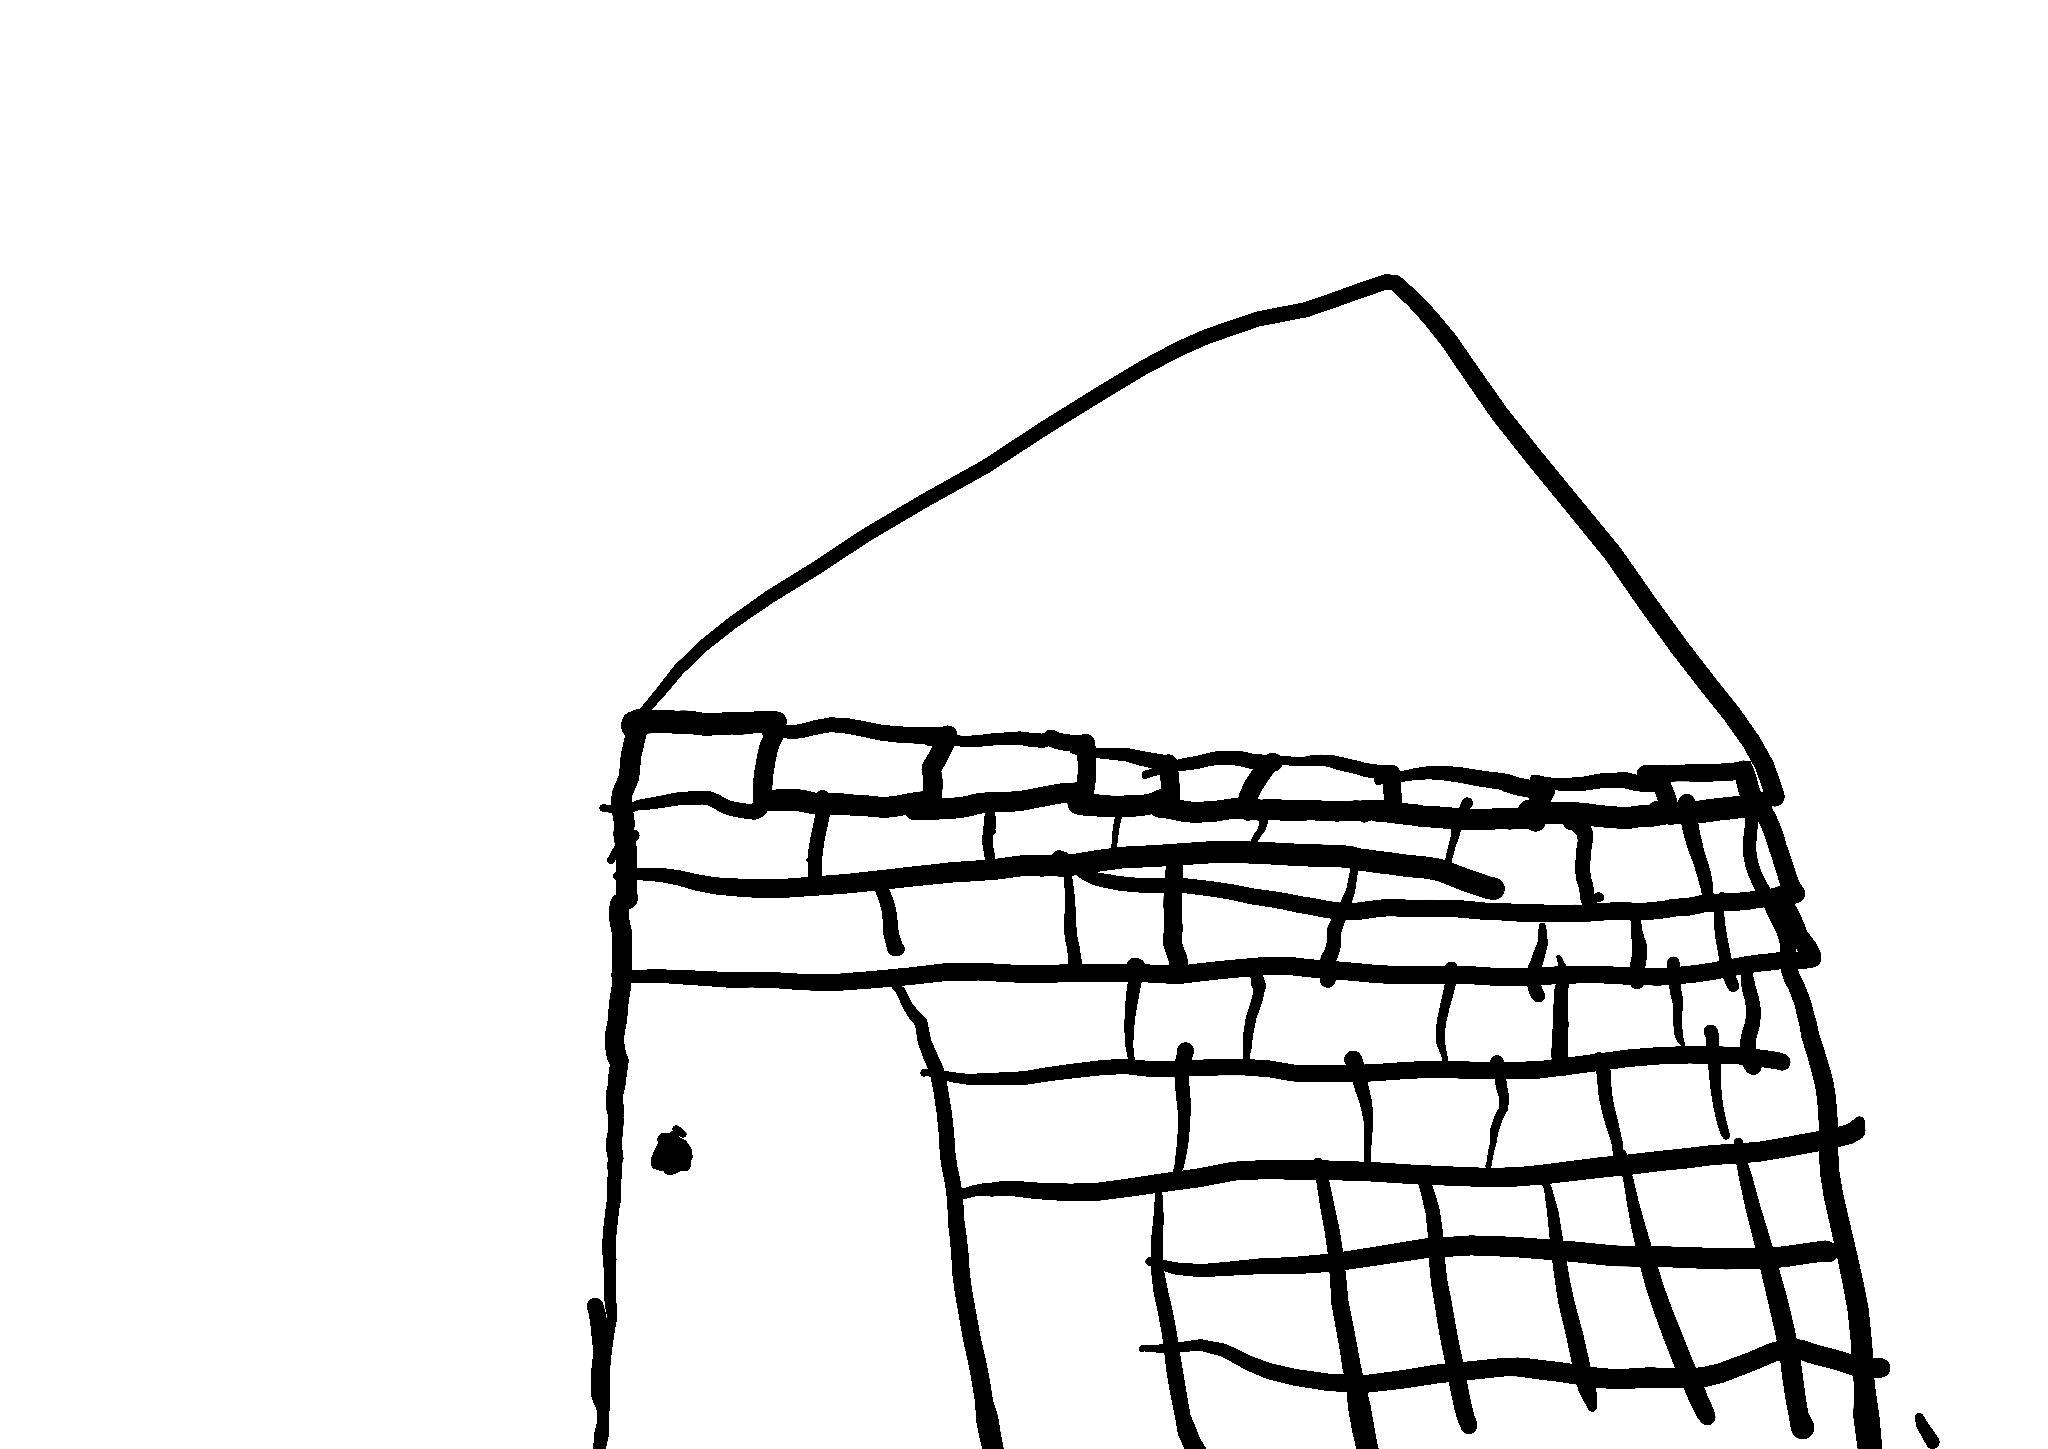door: (601, 974, 1011, 1449)
house: (590, 271, 1891, 1449)
roof: (643, 256, 1791, 772)
wall: (590, 707, 1891, 1449)
